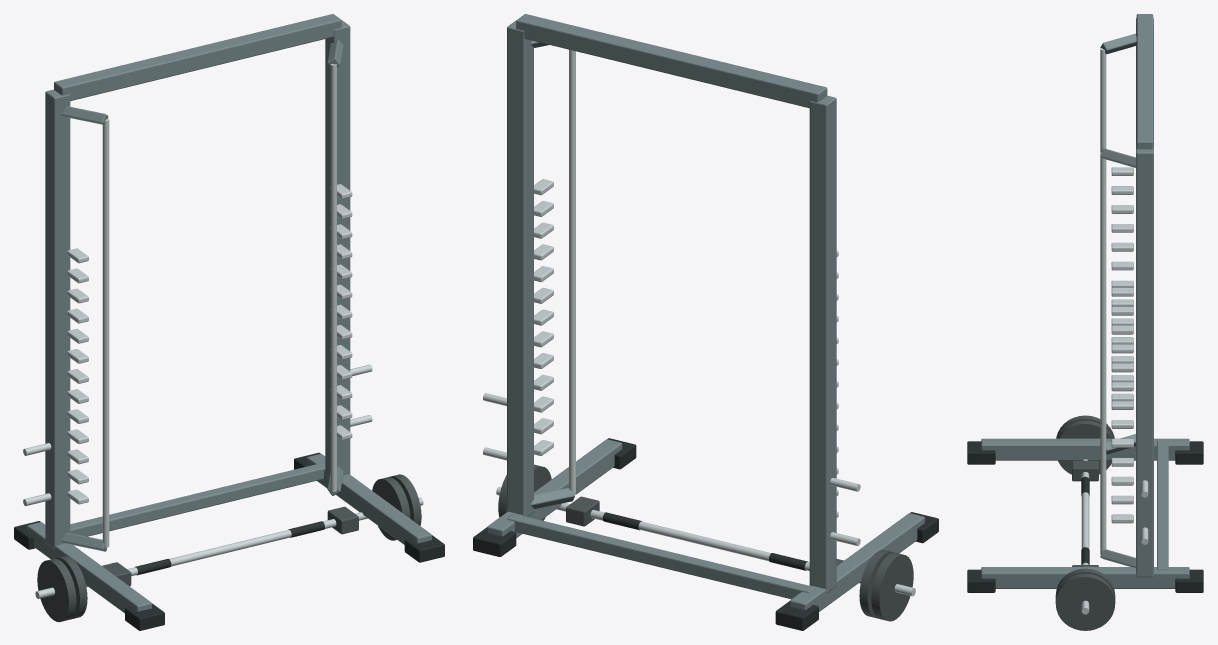
Rendered from smith-machine.v1.glb.
3 views of the same model, side by side, from view 1: azimuth 30°, elevation 25°; view 2: azimuth 150°, elevation 25°; view 3: azimuth 270°, elevation 25° (orthographic). The views are drawn at different scales.
Parts seen in each view (by area): view 1: Base crossmember, Bar guide, Bar carriage, Floor shoe, Moving bar, Knurled grip; view 2: Base crossmember, Bar guide, Bar carriage, Floor shoe, Moving bar, Knurled grip; view 3: Base crossmember, Bar guide, Bar carriage, Floor shoe, Moving bar.
Part boxes in pixels (left/top/right/bottom): Base crossmember: left=27, top=14, right=431, bottom=613; Bar guide: left=23, top=64, right=372, bottom=547; Bar carriage: left=37, top=474, right=421, bottom=622; Floor shoe: left=14, top=452, right=444, bottom=630; Moving bar: left=35, top=497, right=423, bottom=598; Knurled grip: left=135, top=521, right=324, bottom=575; Base crossmember: left=487, top=14, right=924, bottom=611; Bar guide: left=483, top=49, right=860, bottom=545; Bar carriage: left=498, top=464, right=913, bottom=621; Floor shoe: left=473, top=438, right=938, bottom=630; Moving bar: left=496, top=486, right=915, bottom=596; Knurled grip: left=602, top=512, right=807, bottom=570; Base crossmember: left=981, top=14, right=1189, bottom=588; Bar guide: left=1100, top=48, right=1148, bottom=554; Bar carriage: left=1055, top=415, right=1115, bottom=630; Floor shoe: left=967, top=441, right=1203, bottom=592; Moving bar: left=1081, top=459, right=1089, bottom=614.
Bounding box in the file's own units: 2.8 × 3.51 × 1.59.
